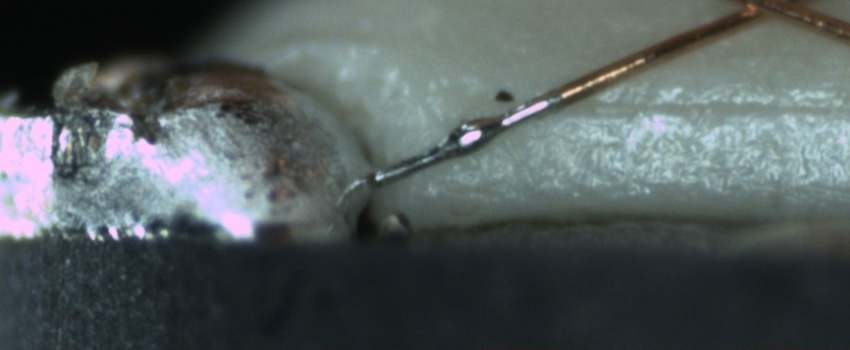CL: (728, 0, 820, 22)
DL: (588, 75, 849, 133)
TB: (442, 108, 503, 159)
TS: (377, 93, 560, 186)
TTCW: (365, 75, 592, 191)
